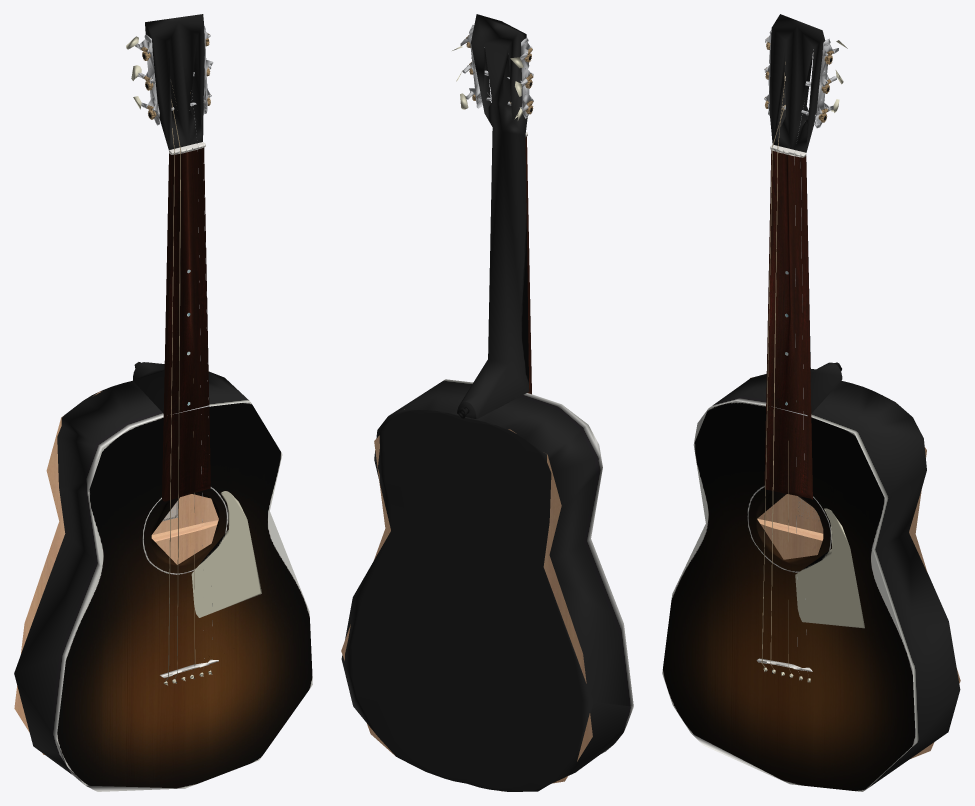
Rendered from guitar.glb.
3 views of the same model, side by side, from view 1: azimuth 30°, elevation 25°; view 2: azimuth 150°, elevation 25°; view 3: azimuth 330°, elevation 25° (orthographic). The views are drawn at different scales.
Parts seen in each view (by area): view 1: parlourGuitar, parlourGuitar.string.A, parlourGuitar.string.E; view 2: parlourGuitar; view 3: parlourGuitar, parlourGuitar.string.A, parlourGuitar.string.E.
Part boxes in pixels (x1,y1,x2,y2): parlourGuitar: (14,14,312,791); parlourGuitar.string.A: (171,99,180,679); parlourGuitar.string.E: (165,128,174,681); parlourGuitar: (341,14,633,791); parlourGuitar: (662,14,960,791); parlourGuitar.string.A: (770,76,785,669); parlourGuitar.string.E: (761,105,785,667).
Bounding box in the file's own units: 0.3304 × 0.9357 × 0.1181.
Materials: 3 (1 with a texture image).
